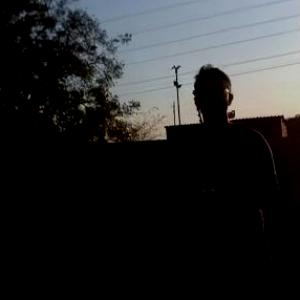follow: (169, 57, 285, 299)
